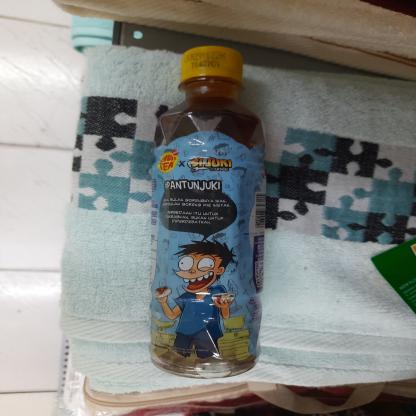bottle: (144, 42, 265, 380)
